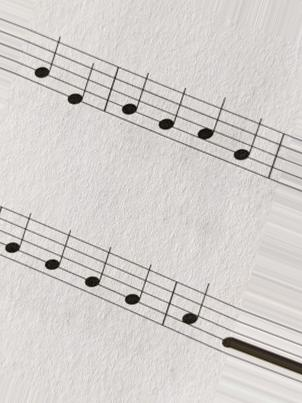A: (194, 90, 227, 171), (178, 277, 212, 355)
E: (65, 43, 97, 116)
G: (229, 111, 267, 186), (39, 223, 77, 289), (157, 80, 191, 151), (82, 242, 115, 305), (119, 64, 150, 131), (3, 210, 35, 274), (33, 27, 62, 96), (122, 260, 152, 326)
